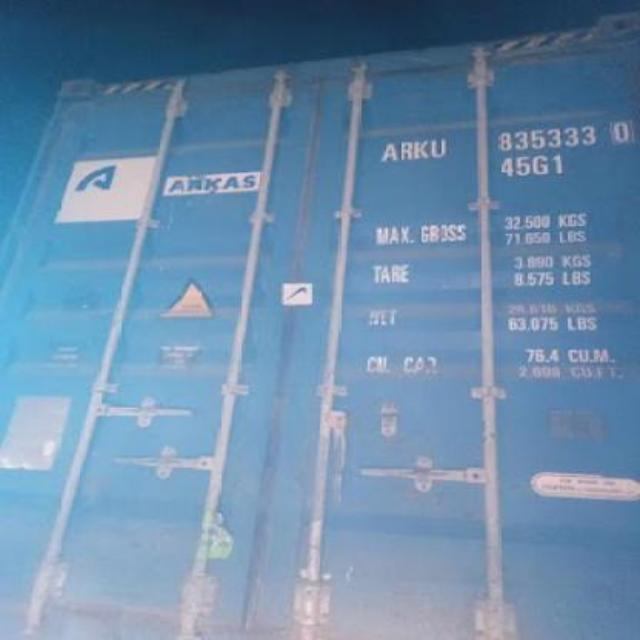0: (612, 116, 630, 146)
3: (510, 126, 530, 150), (580, 125, 596, 152), (562, 122, 578, 148), (548, 124, 560, 148)
5: (530, 126, 546, 150)
8: (494, 128, 512, 154)
A: (378, 142, 396, 166)
K: (412, 138, 428, 160)
R: (398, 138, 412, 166)
U: (428, 136, 449, 158)
